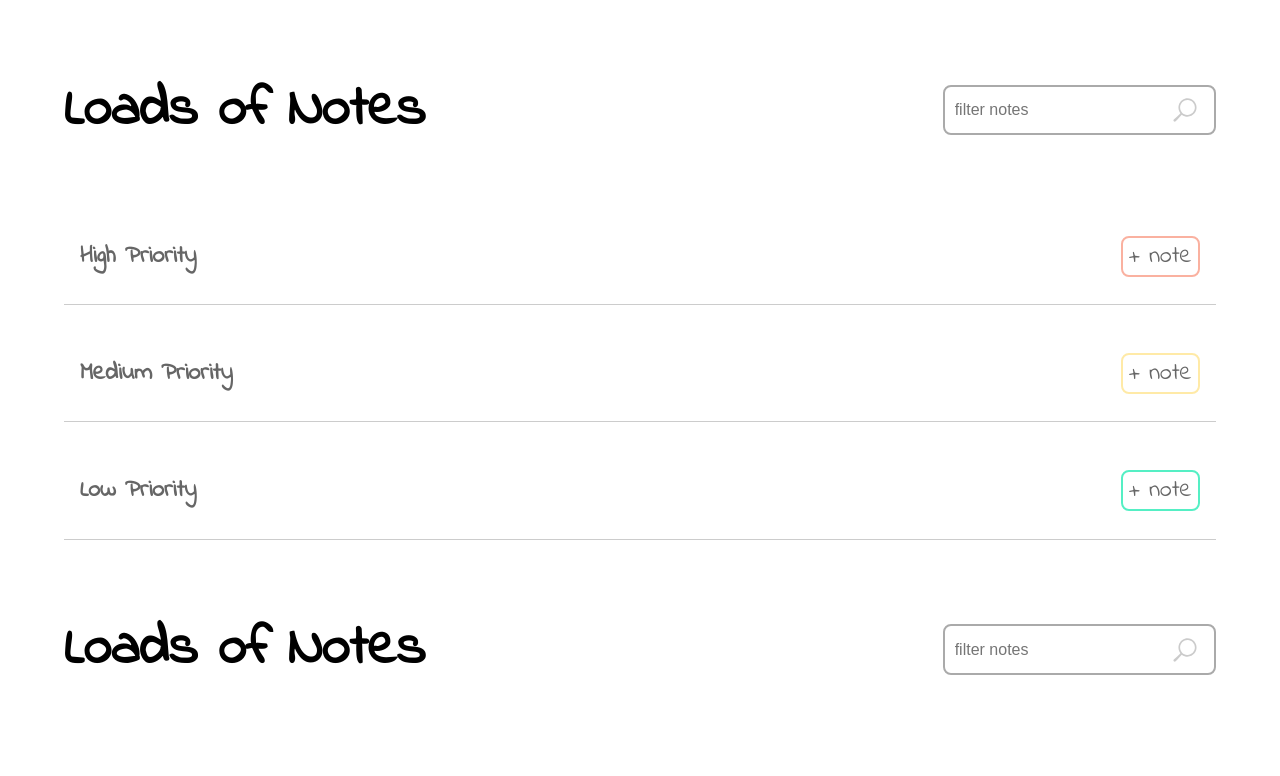
App › when new note popup is already in the dom › removes note popup when cancle symbol is selected
Step 1. Click the 1st button with test id "add-note-button" → (1160, 256), box [1121,236,1200,277]
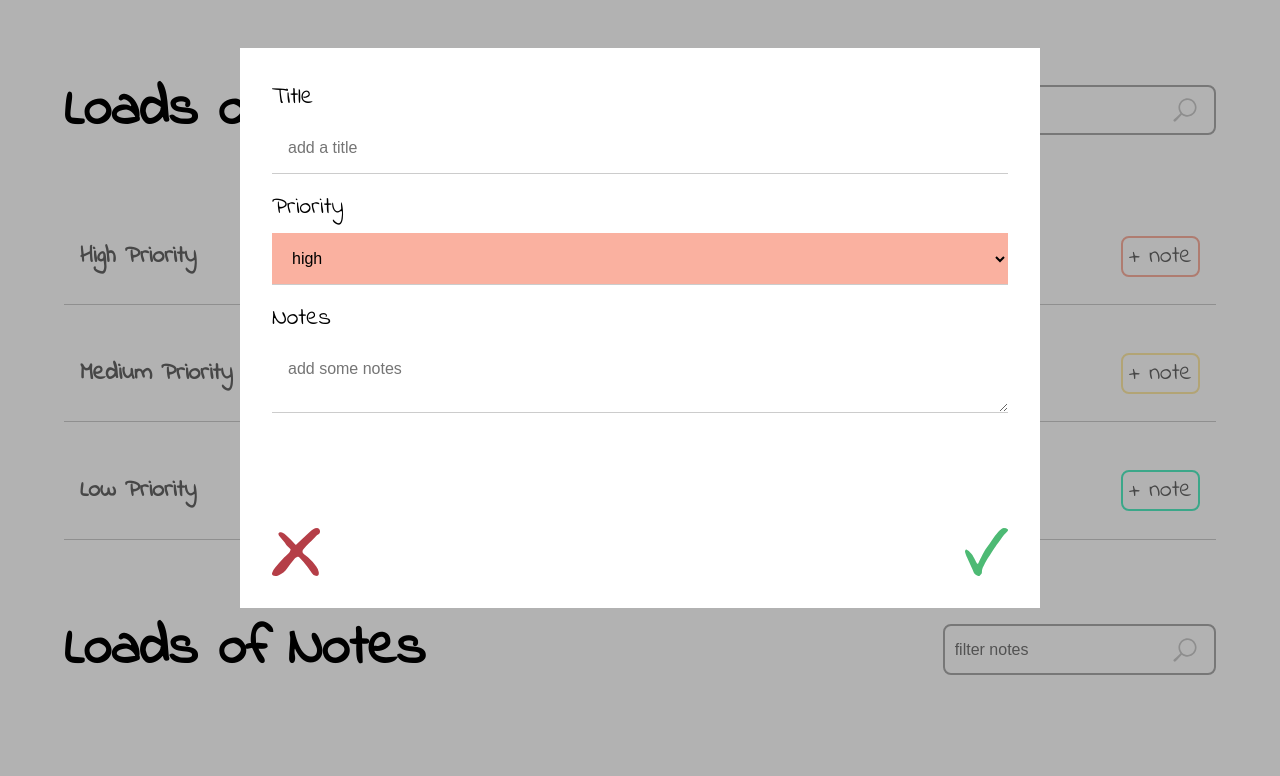
Step 2. Click the picture with test id "note-delete" → (296, 552), box [272,528,320,576]
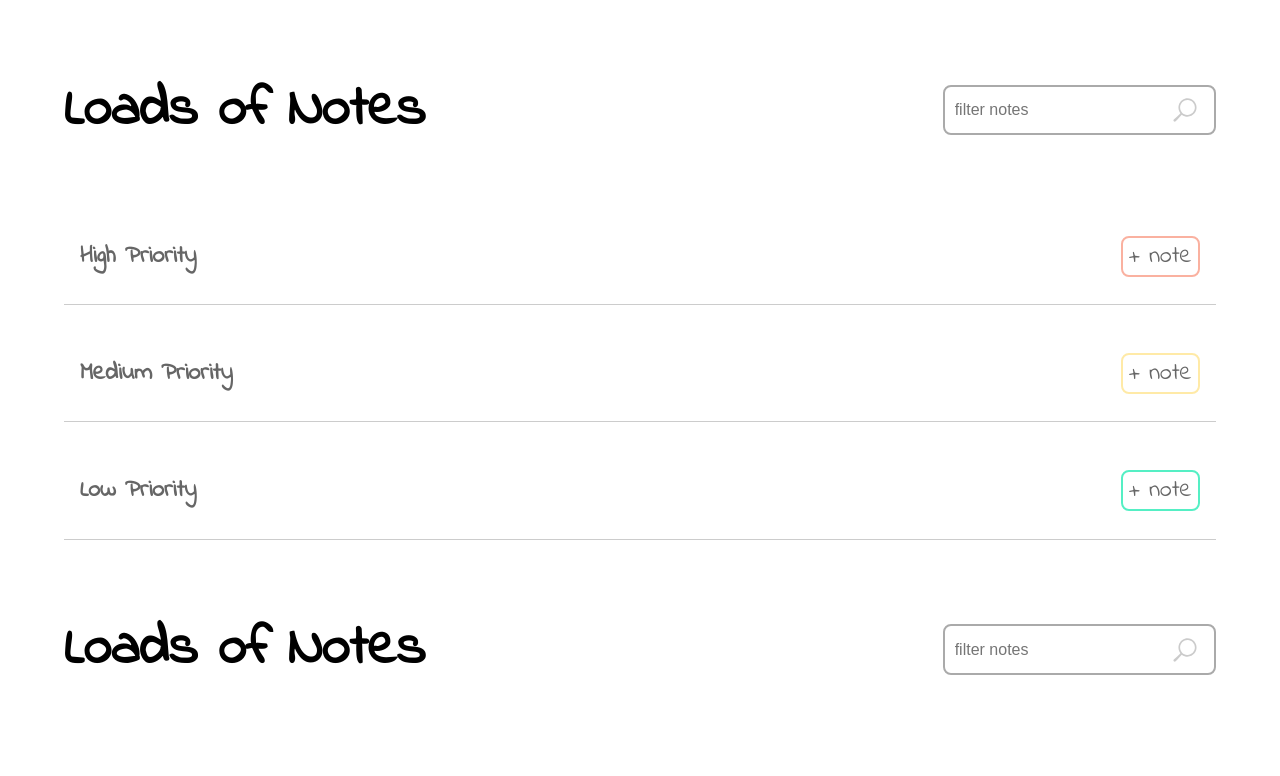
expect the element with test id "component-note" is gone: met
